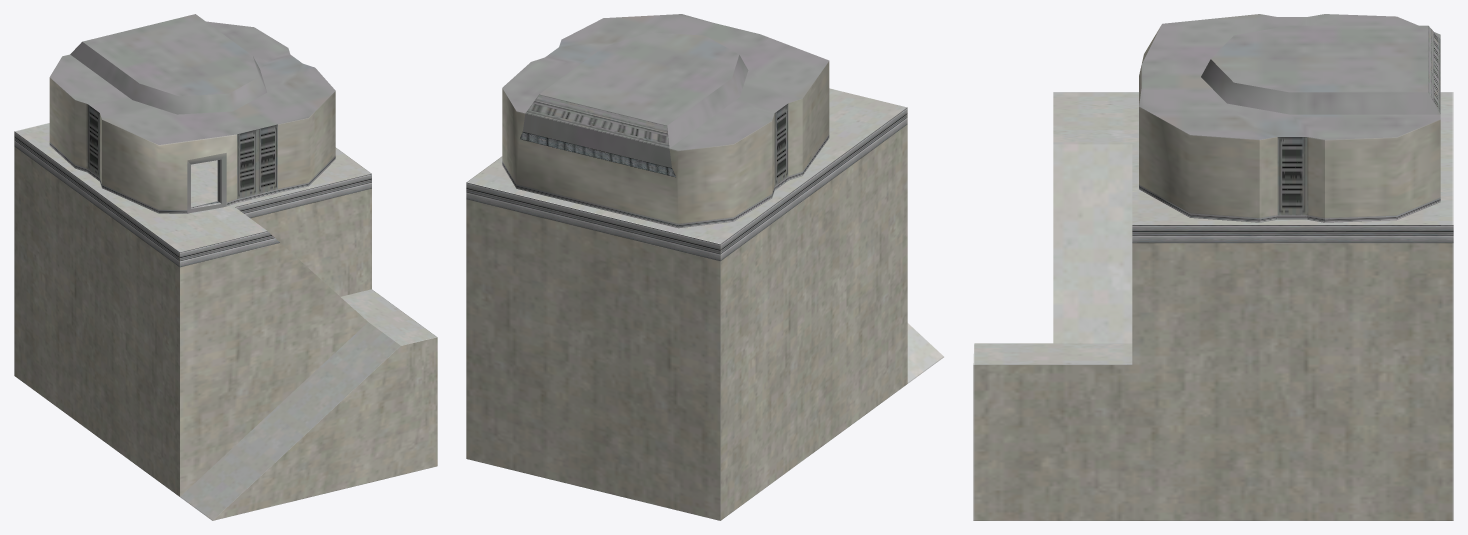
Rendered from ply_corl_house_sm_s02_fp1_r0_mesh_l2.fbx.
3 renders of one model, left to right at view 1: azimuth 30°, elevation 25°; view 2: azimuth 150°, elevation 25°; view 3: azimuth 270°, elevation 25°, orthographic. The views are drawn at different scales.
Visible parts, largest first — view 1: mesh_node; view 2: mesh_node; view 3: mesh_node.
Boxes of the visible parts, bbox=[...] form: mesh_node: bbox=[14, 14, 437, 520]; mesh_node: bbox=[466, 14, 943, 520]; mesh_node: bbox=[973, 14, 1453, 520].
Bounding box in the file's own units: 15.87 × 22.12 × 24.27.
2 materials, 2 textured.
